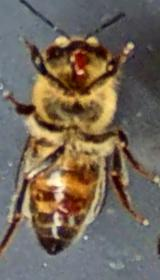varroa_mite: (54, 189, 88, 218)
